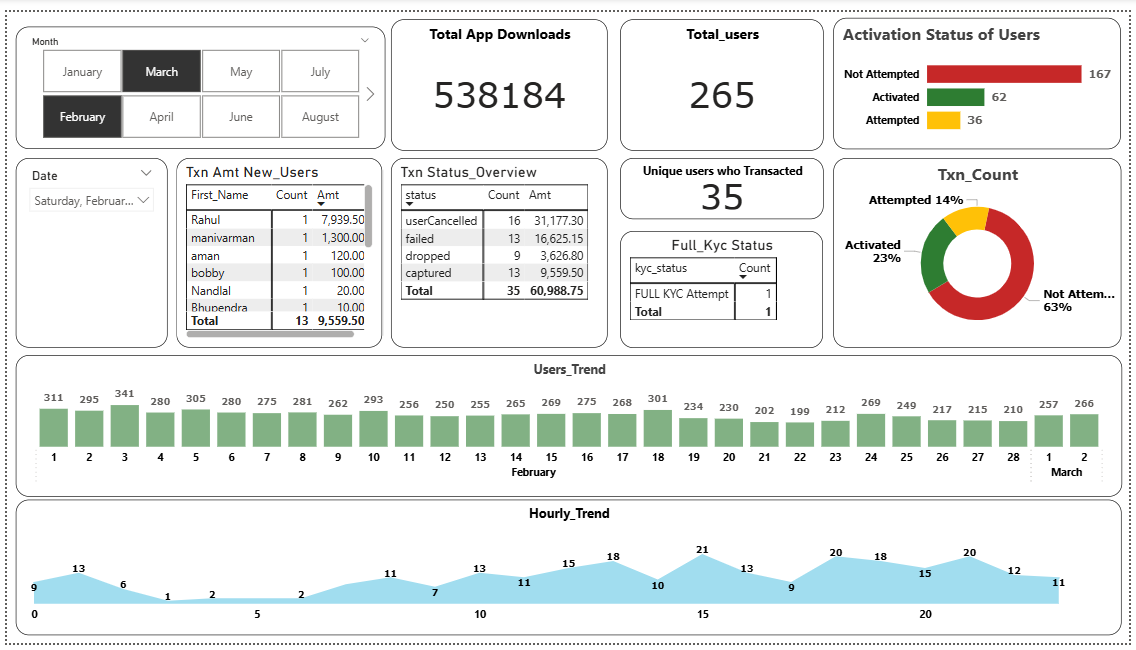

The dashboard page shown, as its layout file describes it:
{"tool":"powerbi","page":{"name":"User_Report","canvas":[1280,720],"ordinal":1},"visuals":[{"type":"columnChart","title":"Users_Trend","fields":{"Category":["Users (3).Date.Variation.Date Hierarchy.Month","Users (3).Date.Variation.Date Hierarchy.Day"],"Y":["CountNonNull(Users (3).mobile)"]},"box":[10,391.7,1263.3,161.7],"z":0},{"type":"lineChart","title":"Hourly_Trend","fields":{"Category":["Users (3).Hour"],"Y":["CountNonNull(Users (3).mobile)"]},"box":[10,556.2,1262.5,155],"z":1000},{"type":"card","title":"Total_users","fields":{"Values":["CountNonNull(Users (3).mobile)"]},"box":[700,8.3,233.3,150],"z":2000},{"type":"barChart","title":"Activation Status of Users","fields":{"Category":["Users (3).Wallet Status"],"Y":["CountNonNull(Users (3).mobile)"]},"box":[943.9,7.5,328.1,149.8],"z":3000},{"type":"donutChart","title":"Txn_Count","fields":{"Category":["Users (3).Wallet Status"],"Y":["Sum(Users (3).mobile)"]},"box":[943.8,166.2,328.8,216.2],"z":4000},{"type":"card","title":"Total App Downloads","fields":{"Values":["Sum(Table4.Number)"]},"box":[438.8,7.5,247.5,150],"z":5000},{"type":"slicer","fields":{"Values":["Users (3).Date.Variation.Date Hierarchy.Month"]},"box":[10,16.7,421.7,140],"z":6000},{"type":"slicer","fields":{"Values":["Users (3).Date"]},"box":[10,166.7,173.3,216.7],"z":7000},{"type":"pivotTable","title":"KYC Status","fields":{"Rows":["Users (3).kyc_status"],"Values":["Count(Users (3).mobile)"]},"box":[700,226.7,233.3,156.7],"z":8000},{"type":"funnel","title":"User Conversion Funnel","fields":{"Y":["Users (3).Total Users","Users (3).Attempted","Users (3).Activated","Users (3).Full KYC"]},"box":[190,166.7,496.7,216.7],"z":9000},{"type":"card","title":"Activation Rate","fields":{"Values":["Users (3).Activation Rate"]},"box":[700,161.7,230,56.7],"z":10000}]}

Visuals, with their boxes in screenshot pixels (x1, y1, x2, y2), scaled from the page's 1280x720 canvas onto the 1136x650 screenshot:
"Users_Trend" columnChart: [9,354,1130,500]
"Hourly_Trend" lineChart: [9,502,1129,642]
"Total_users" card: [621,7,828,143]
"Activation Status of Users" barChart: [838,7,1129,142]
"Txn_Count" donutChart: [838,150,1129,345]
"Total App Downloads" card: [389,7,609,142]
slicer - Users (3).Date.Variation.Date Hierarchy.Month: [9,15,383,141]
slicer - Users (3).Date: [9,150,163,346]
"KYC Status" pivotTable: [621,205,828,346]
"User Conversion Funnel" funnel: [169,150,609,346]
"Activation Rate" card: [621,146,825,197]
